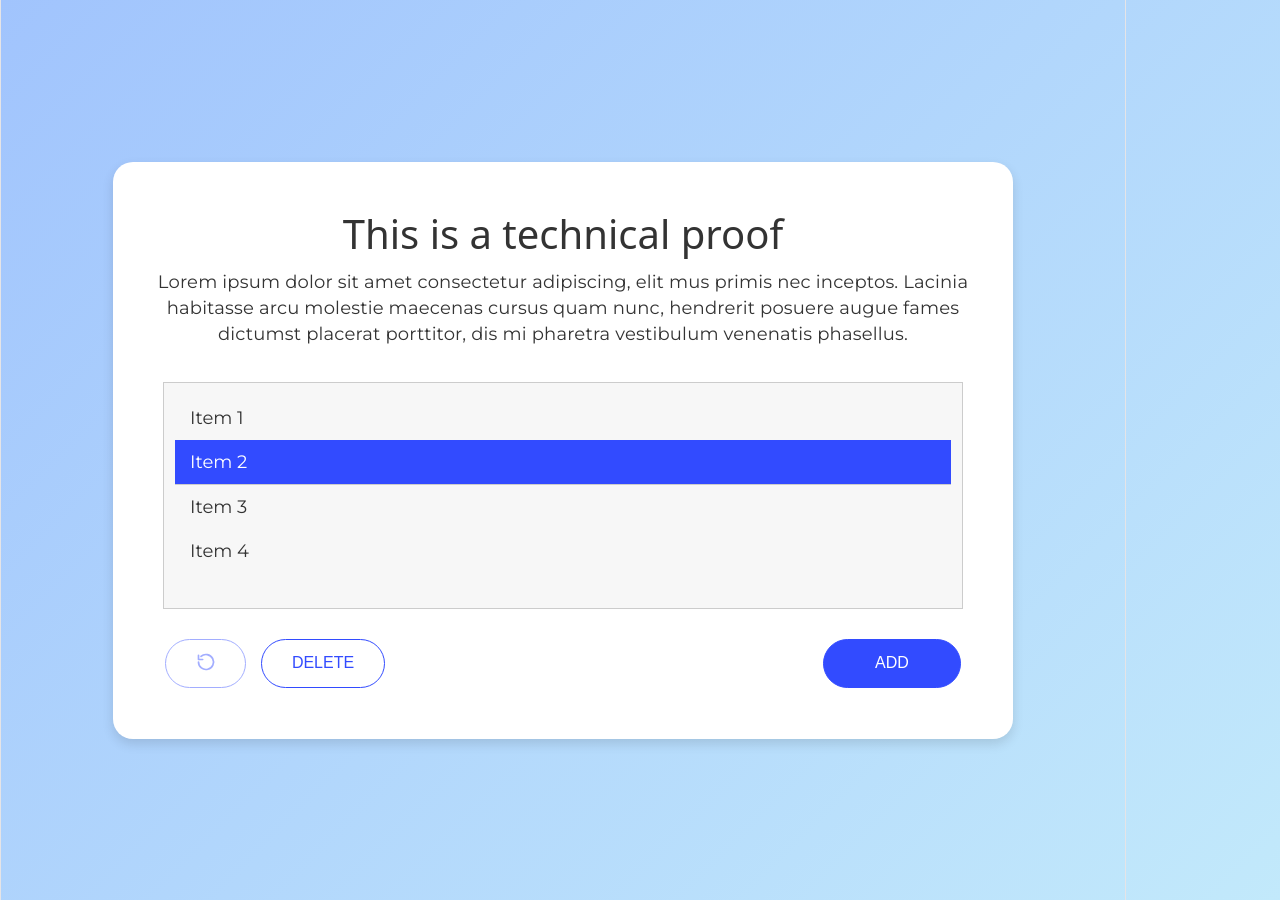
Test: App › deletes selected items
The width and height of the screenshot is (1280, 900).
Click the text "Item 1": {"x": 217, "y": 418} left=190, top=406, right=244, bottom=428
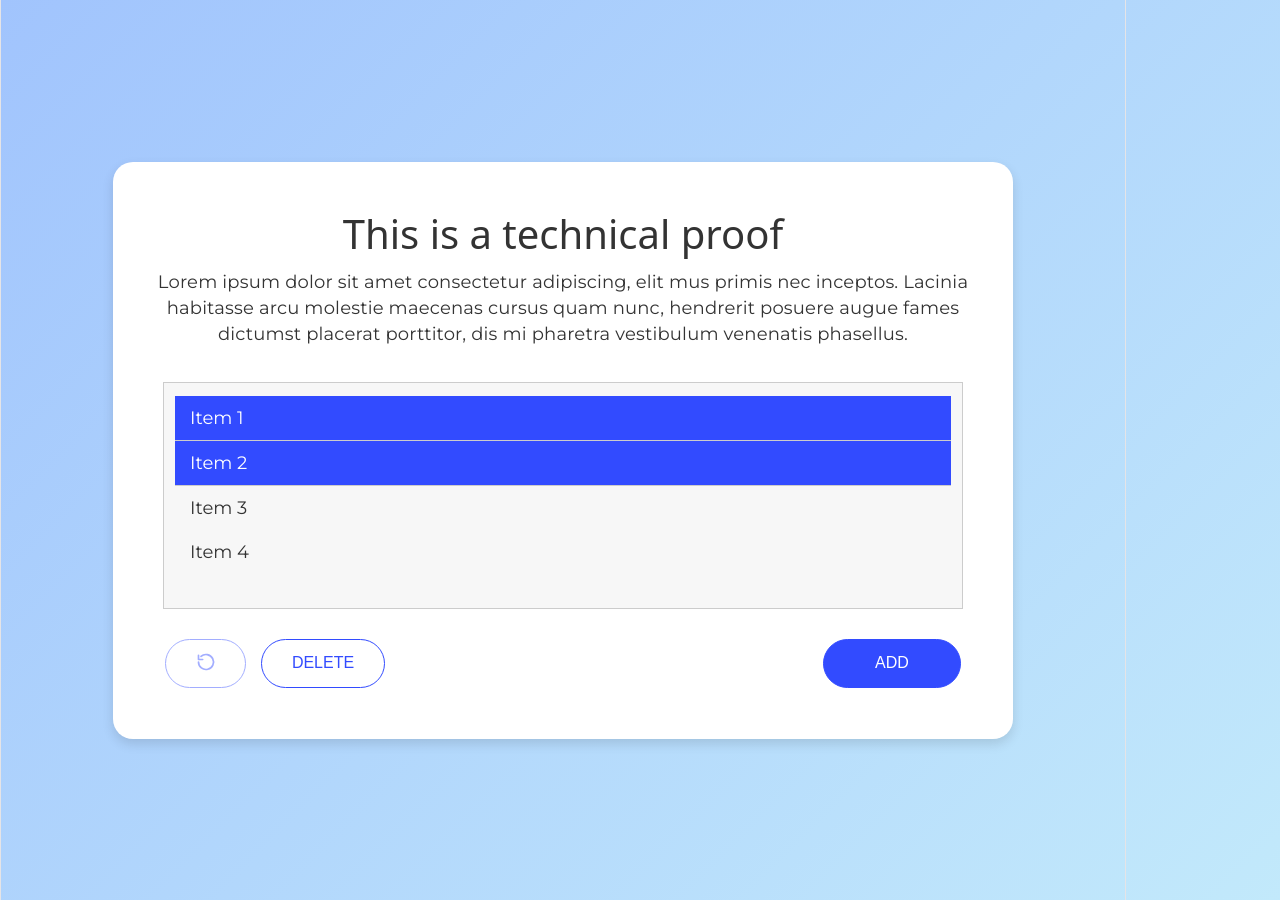
Click the button "DELETE": {"x": 323, "y": 663} left=261, top=638, right=385, bottom=688
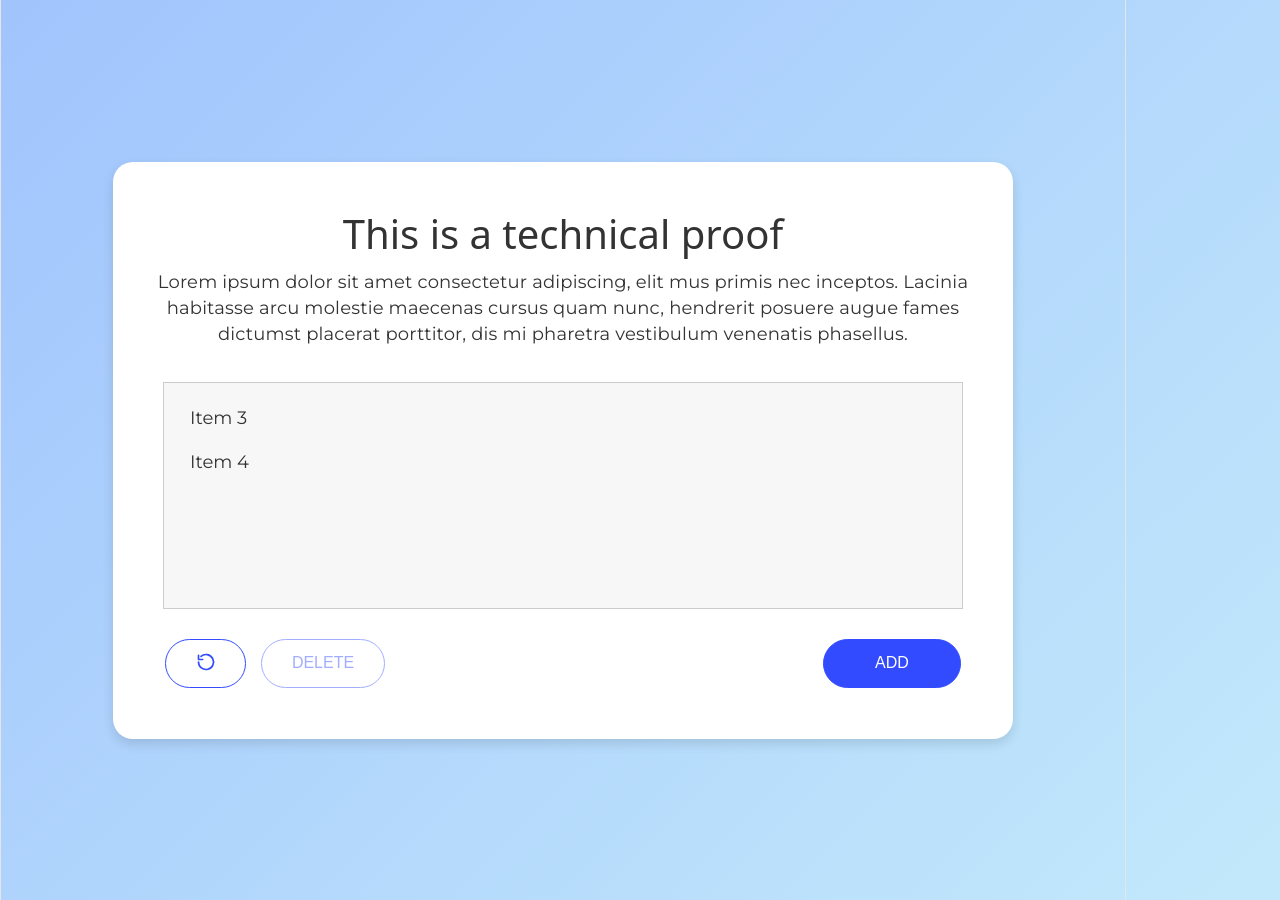
Expected: the text "Item 1" is gone
